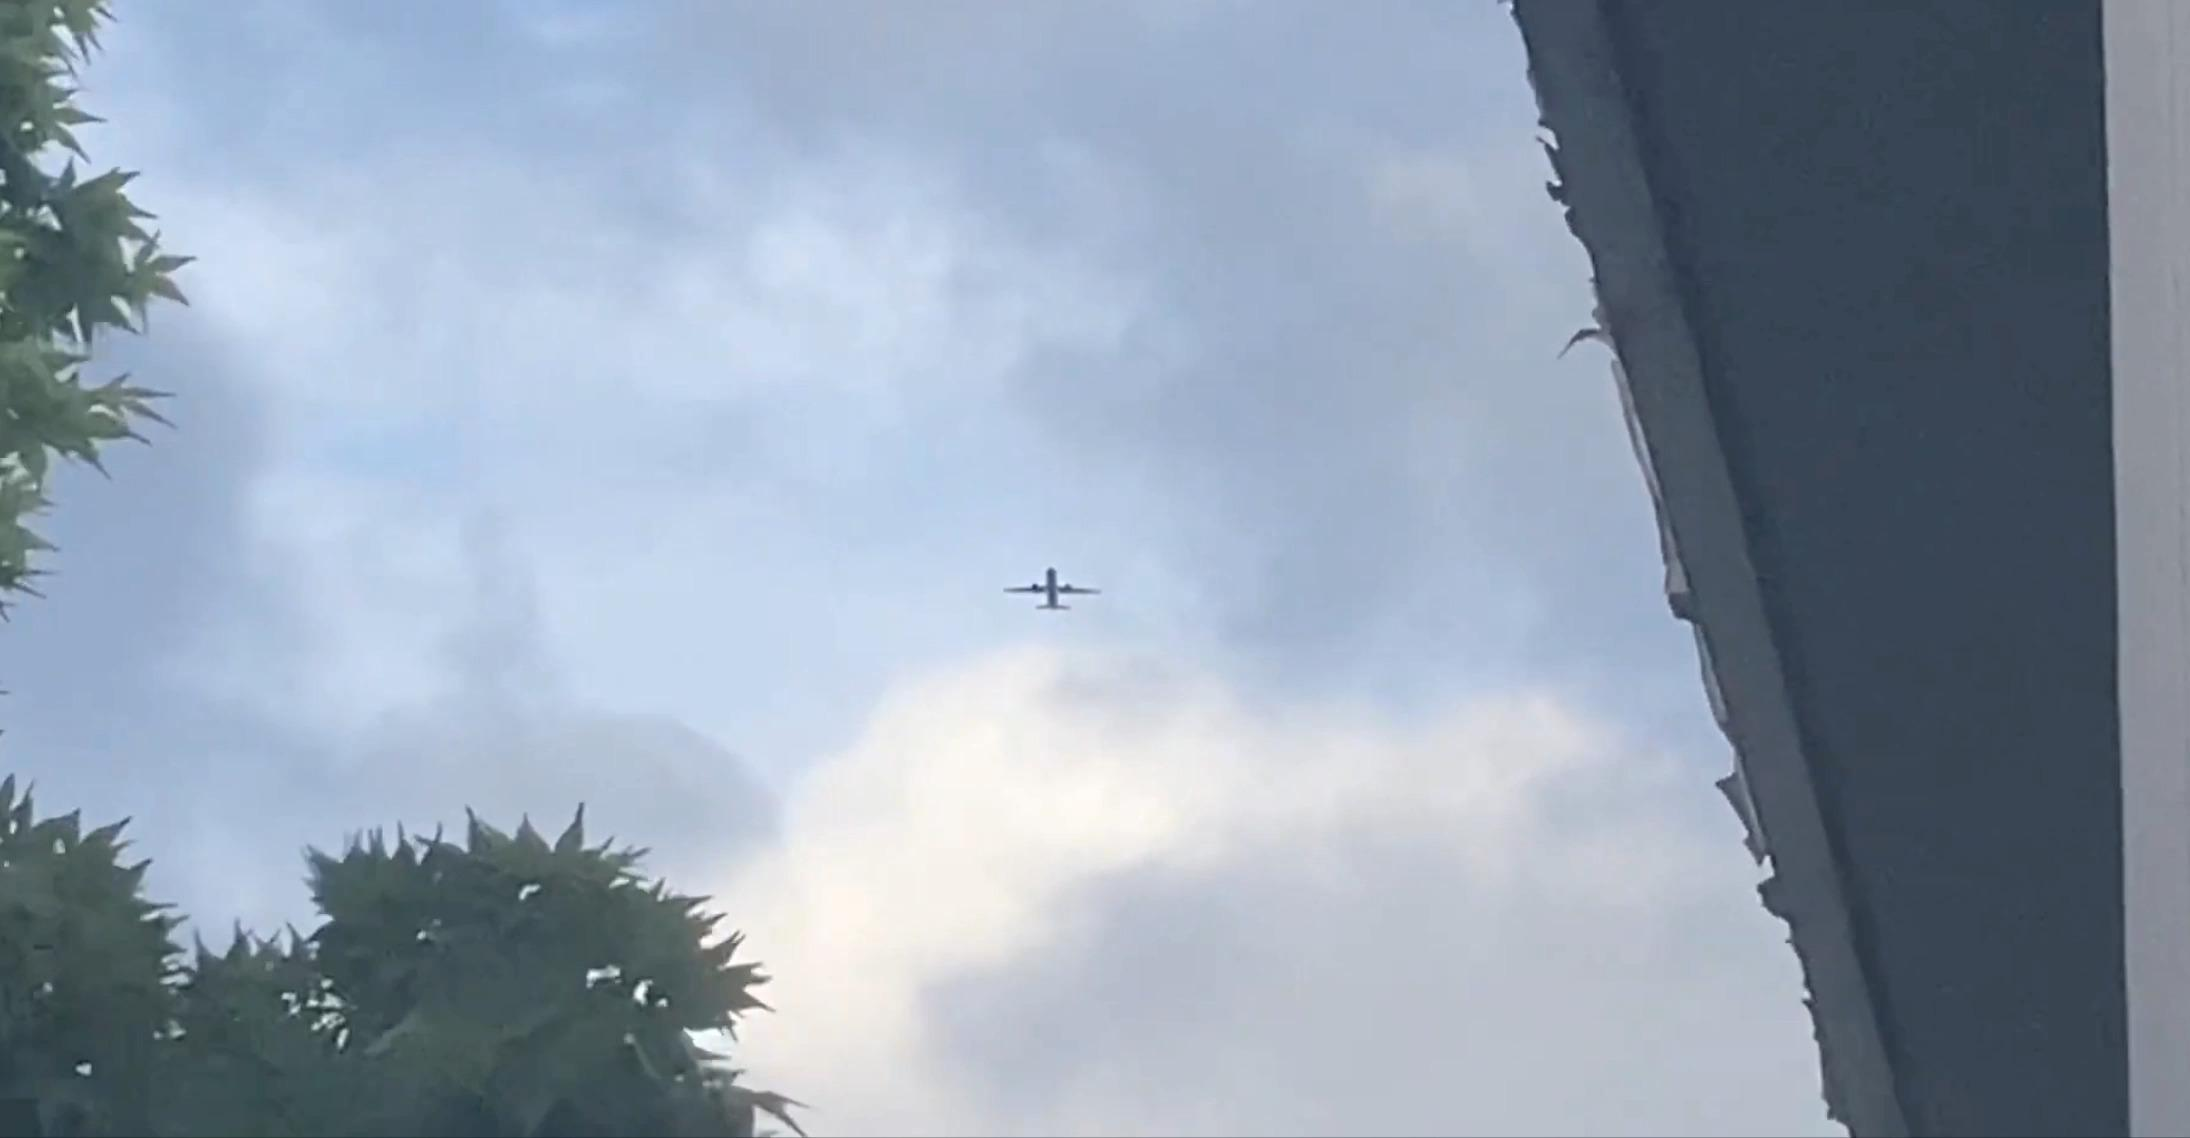Plane: (965, 550, 1133, 628)
